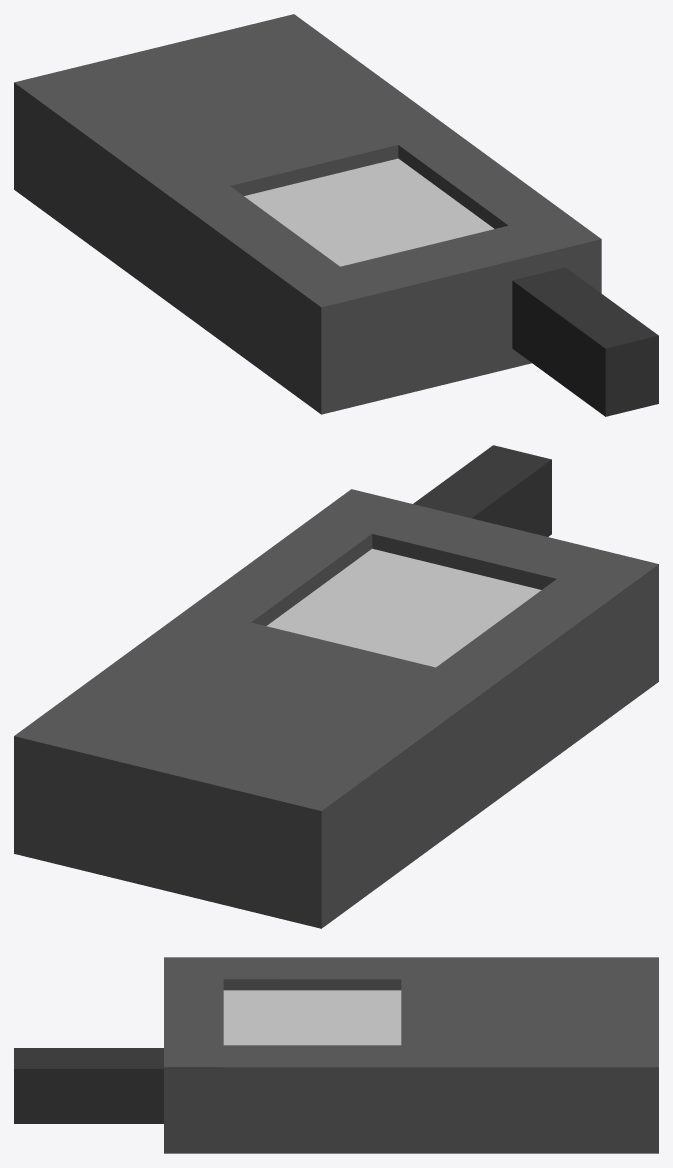
Rendered from cell.fbx.
3 views of the same model, one above another, from view 1: azimuth 30°, elevation 25°; view 2: azimuth 150°, elevation 25°; view 3: azimuth 270°, elevation 25° (orthographic). The views are drawn at different scales.
Visible parts, largest first — view 1: cell; view 2: cell; view 3: cell.
Part boxes in pixels (x1=…): cell: x1=14, y1=14, x2=658, y2=416; cell: x1=14, y1=445, x2=658, y2=928; cell: x1=14, y1=957, x2=658, y2=1153.
Bounding box in the file's own units: 7.81 × 2.86 × 19.34.
